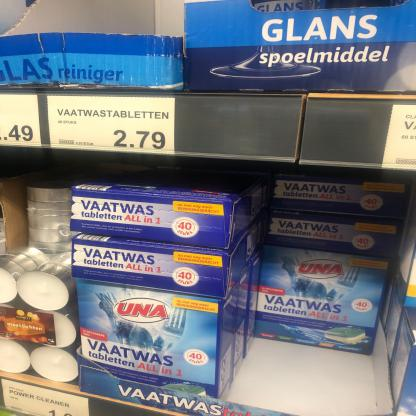prtg: (49, 97, 177, 155), (3, 380, 91, 415), (1, 95, 43, 147), (383, 106, 415, 172)
